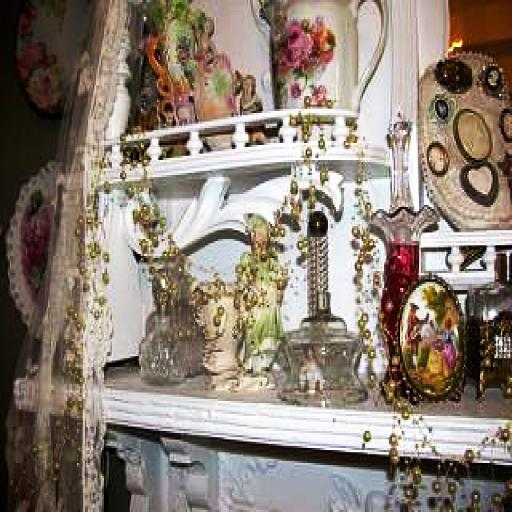tulip: (2, 0, 505, 506)
